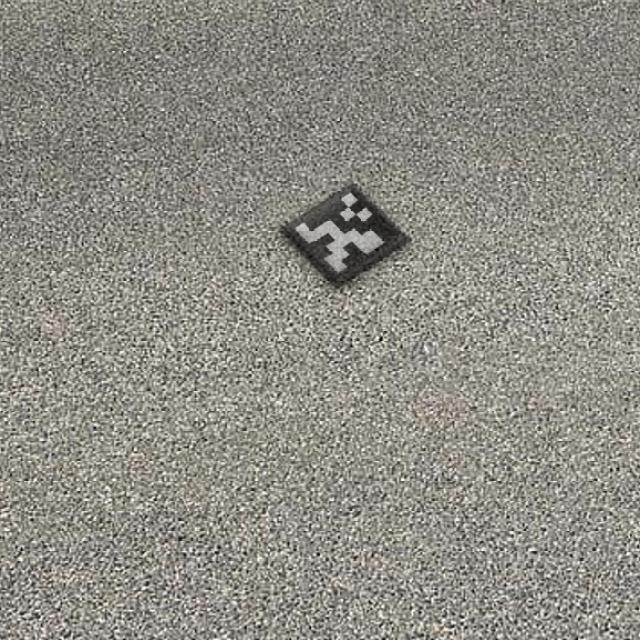marker: (272, 172, 418, 290)
